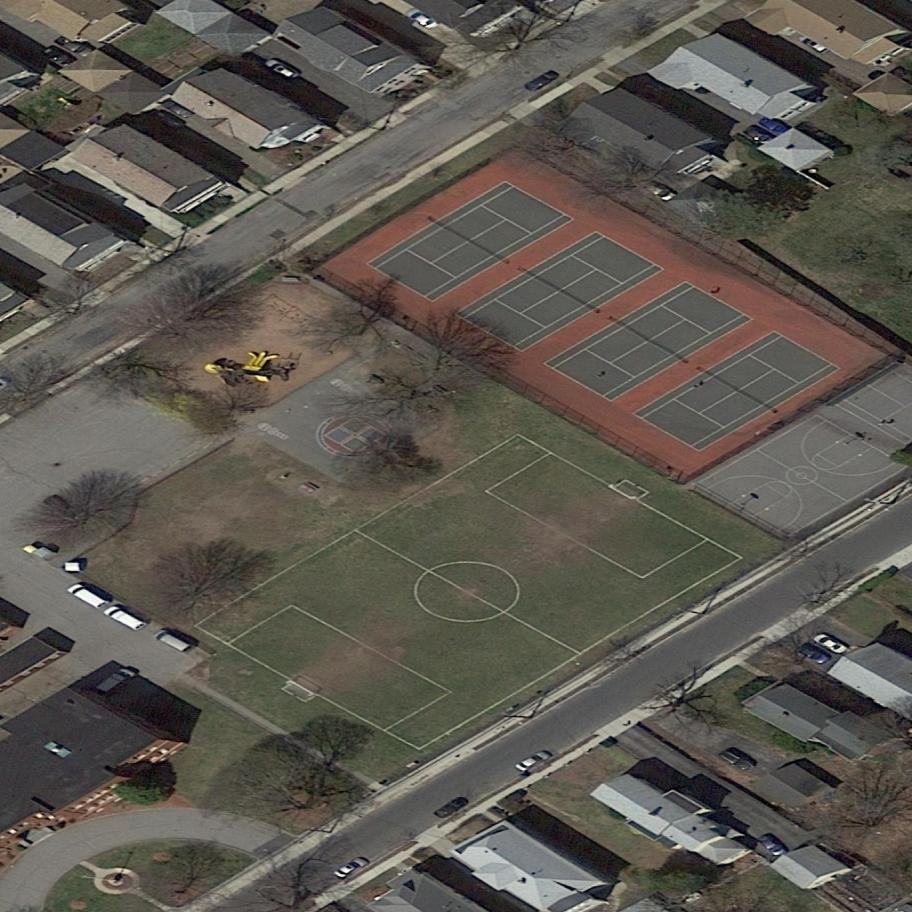small-vehicle: (60, 576, 114, 613), (804, 622, 856, 660), (100, 600, 150, 637), (148, 624, 200, 659), (92, 662, 138, 699), (789, 637, 836, 670), (518, 64, 563, 98), (715, 743, 759, 777), (636, 176, 682, 207), (511, 746, 554, 779), (429, 791, 471, 824), (328, 852, 371, 884), (402, 3, 443, 36), (58, 30, 98, 63), (754, 828, 790, 863), (260, 54, 301, 83), (796, 29, 836, 57), (41, 41, 76, 70), (757, 110, 792, 139), (742, 122, 776, 148)
